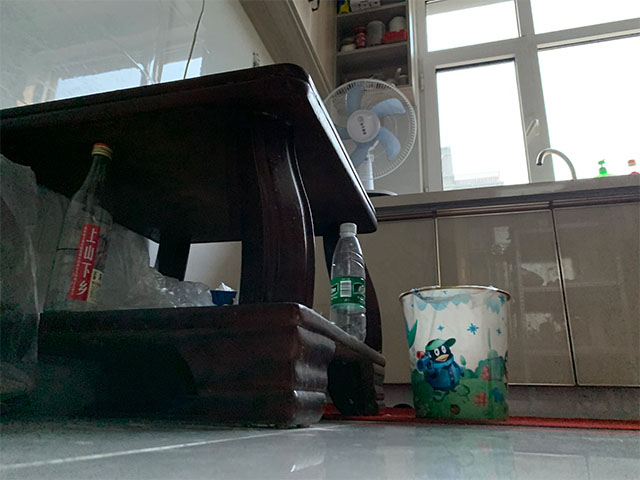cabinet: (358, 172, 640, 420)
carpet: (323, 401, 640, 430)
table: (1, 62, 387, 429)
trashcan: (398, 283, 512, 421)
